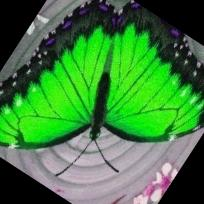butterfly: (0, 0, 204, 150)
